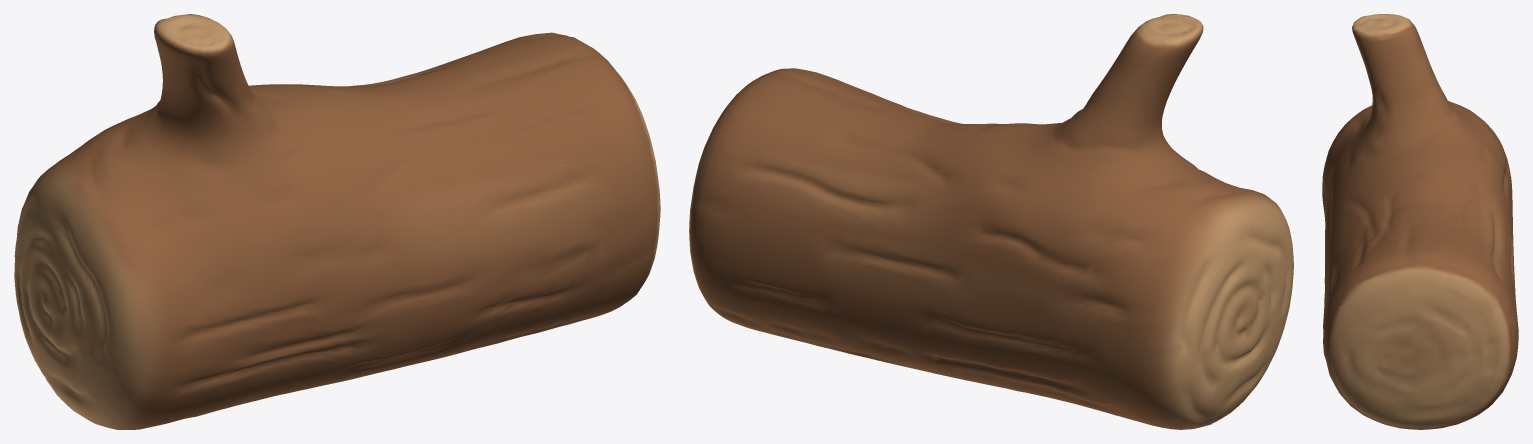
The model's file is woodpiece.fbx.
The picture shows the model from 3 angles, left to right: view 1: azimuth 30°, elevation 25°; view 2: azimuth 150°, elevation 25°; view 3: azimuth 270°, elevation 25°; orthographic projection. The views are drawn at different scales.
Visible parts, largest first — view 1: Retopo_Cube; view 2: Retopo_Cube; view 3: Retopo_Cube.
Part boxes in pixels (x1,y1,x2,y2): Retopo_Cube: (14,14,660,429); Retopo_Cube: (689,14,1293,429); Retopo_Cube: (1322,14,1518,429).
Bounding box in the file's own units: 413 × 277 × 182.
1 material, 1 textured.
